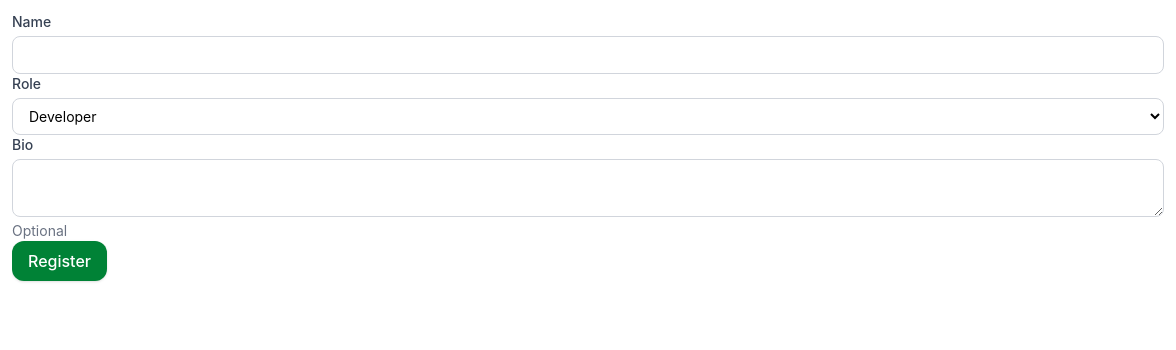
Test: Registration Form Integration › shows validation errors on empty submit
Click the button "Register" at {"x": 60, "y": 261}, box [12,241,107,281]
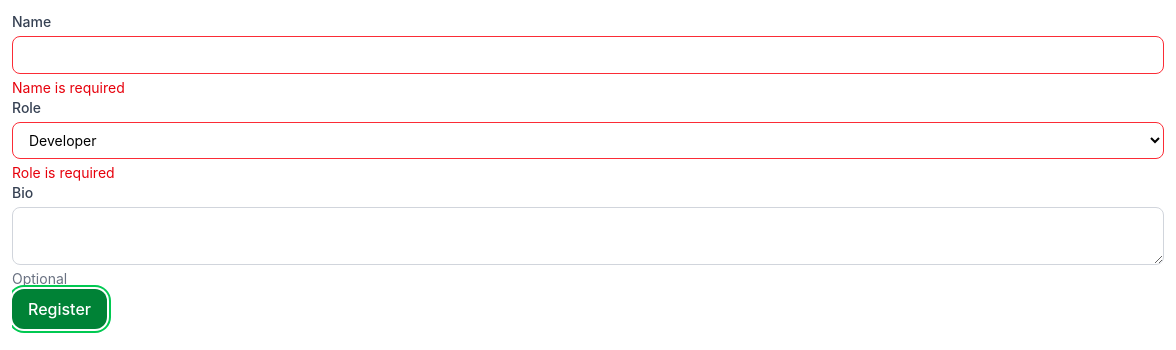
Check: the text "Name is required" is shown, box [12,79,125,96]
Check: the text "Role is required" is shown, box [12,164,115,181]
